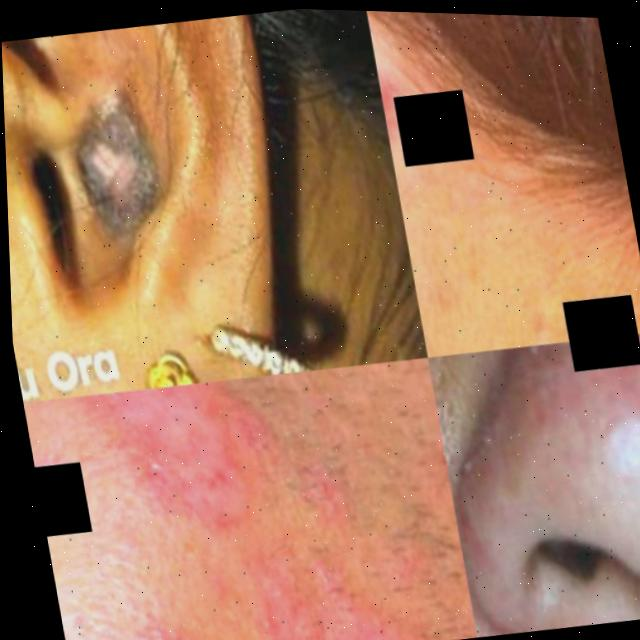lupus-detected: (52, 353, 420, 610), (1, 17, 266, 320), (55, 530, 478, 640), (466, 327, 640, 575), (365, 11, 514, 243)
